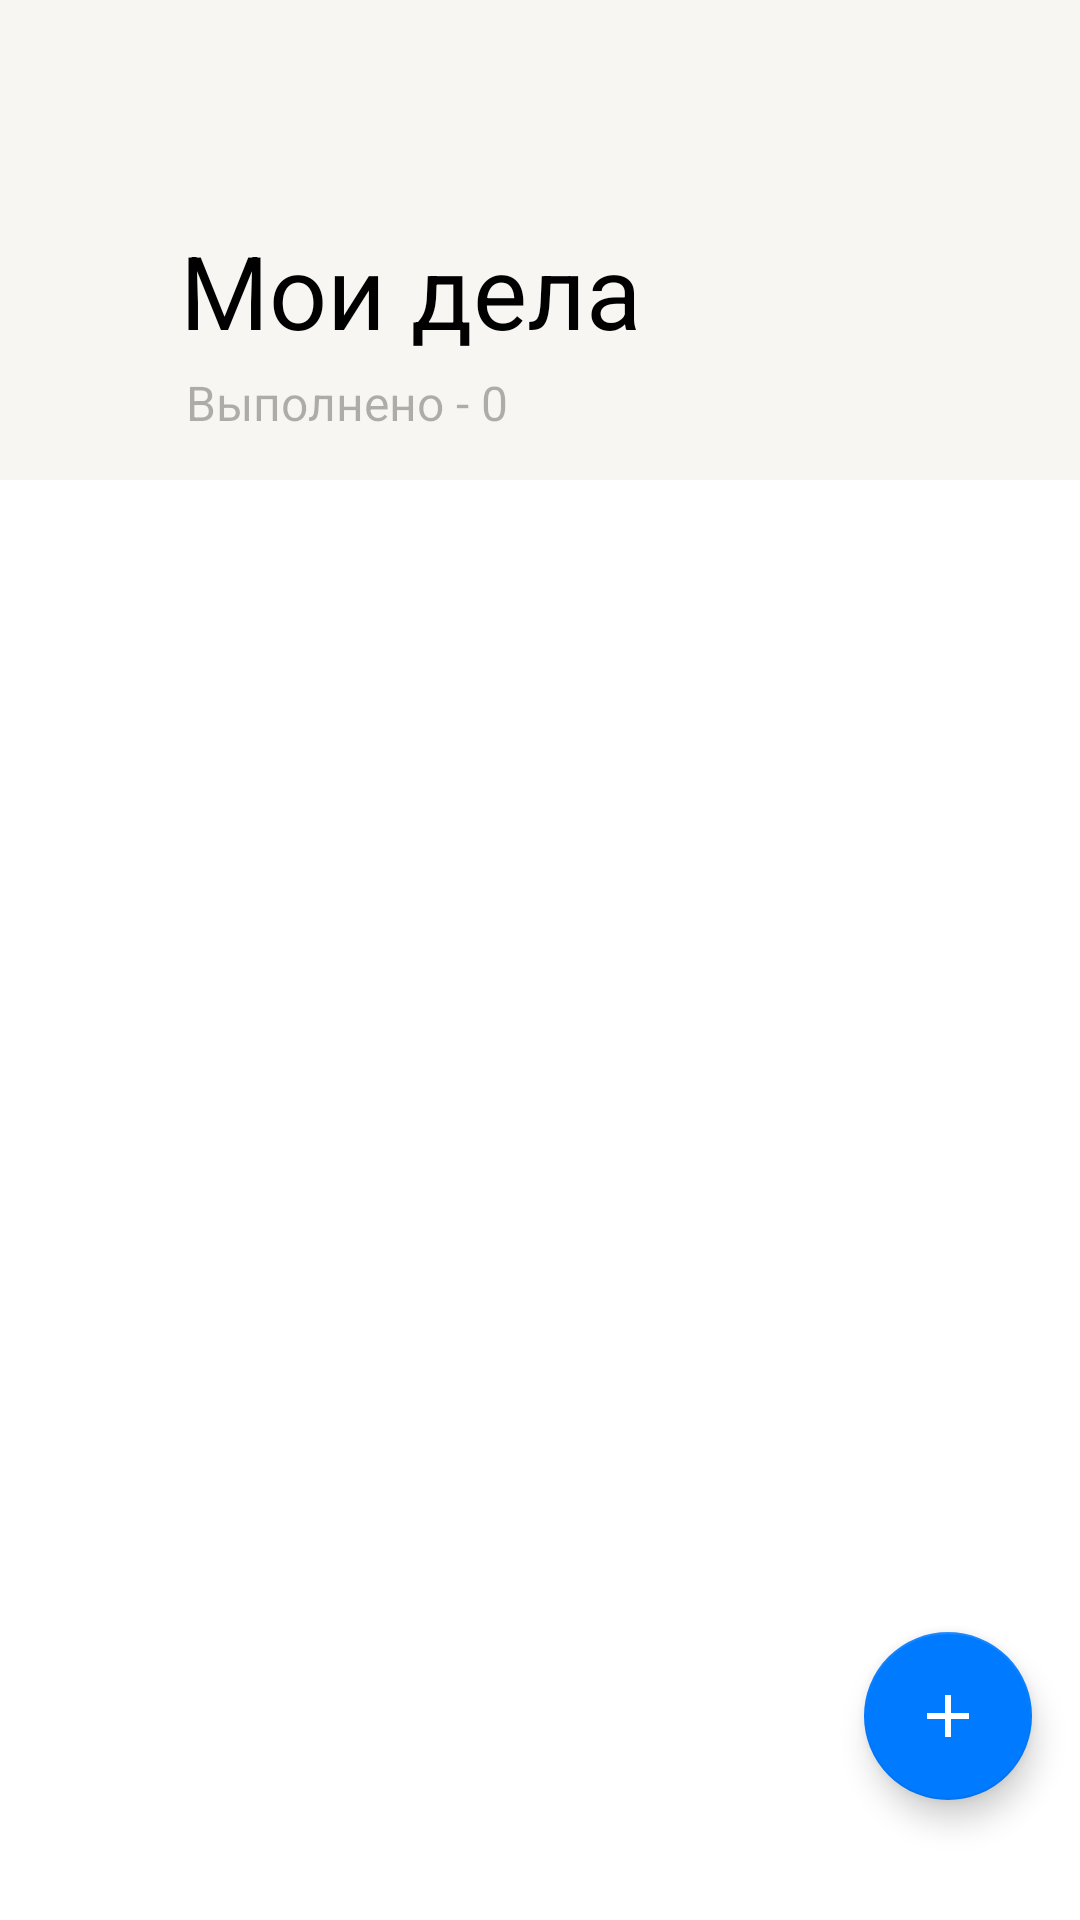

Icons on this 1080×1920 Android screen, each with the point to tap as (x=x, y=y):
add new task: (x=948, y=1716)
